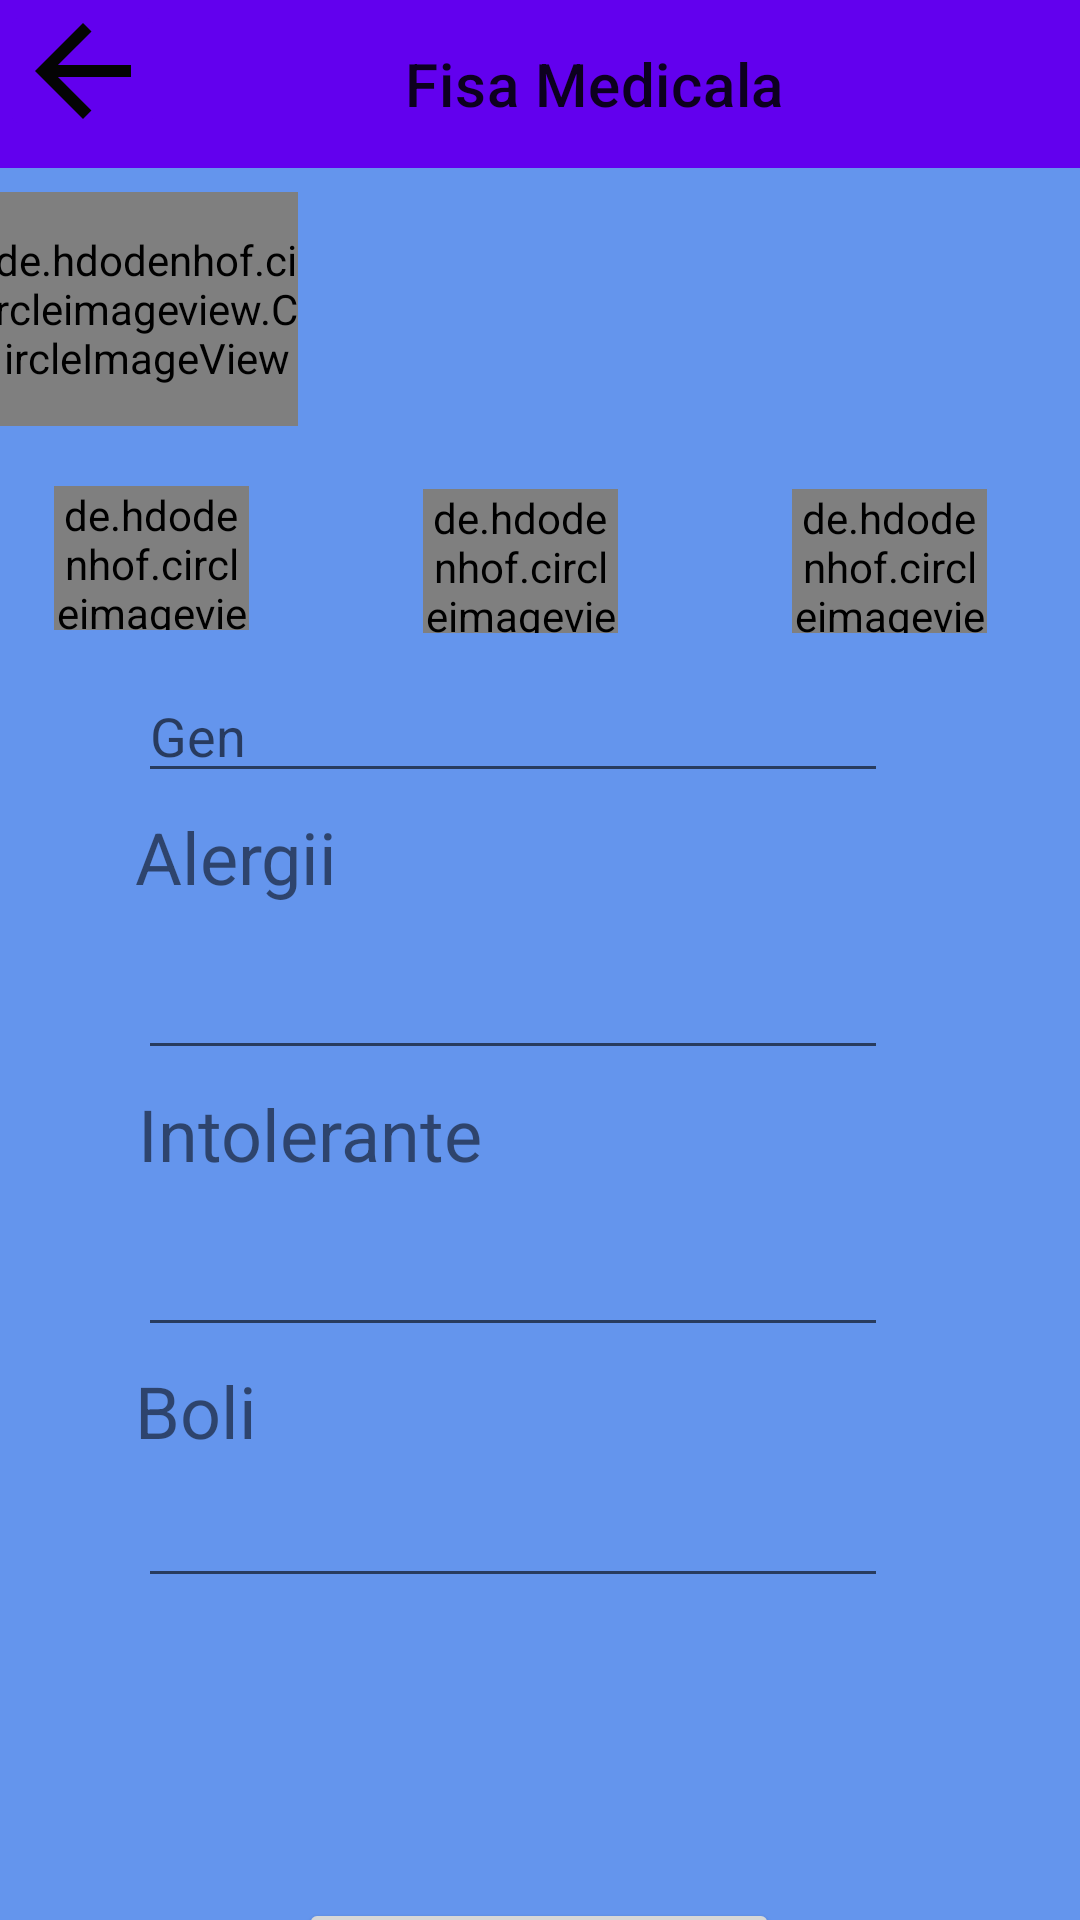

Locate icon controls on the screen. Image size 1080 × 1920, boxes as region(x1, y1, x2, y2).
arrow back: region(35, 23, 131, 119)
